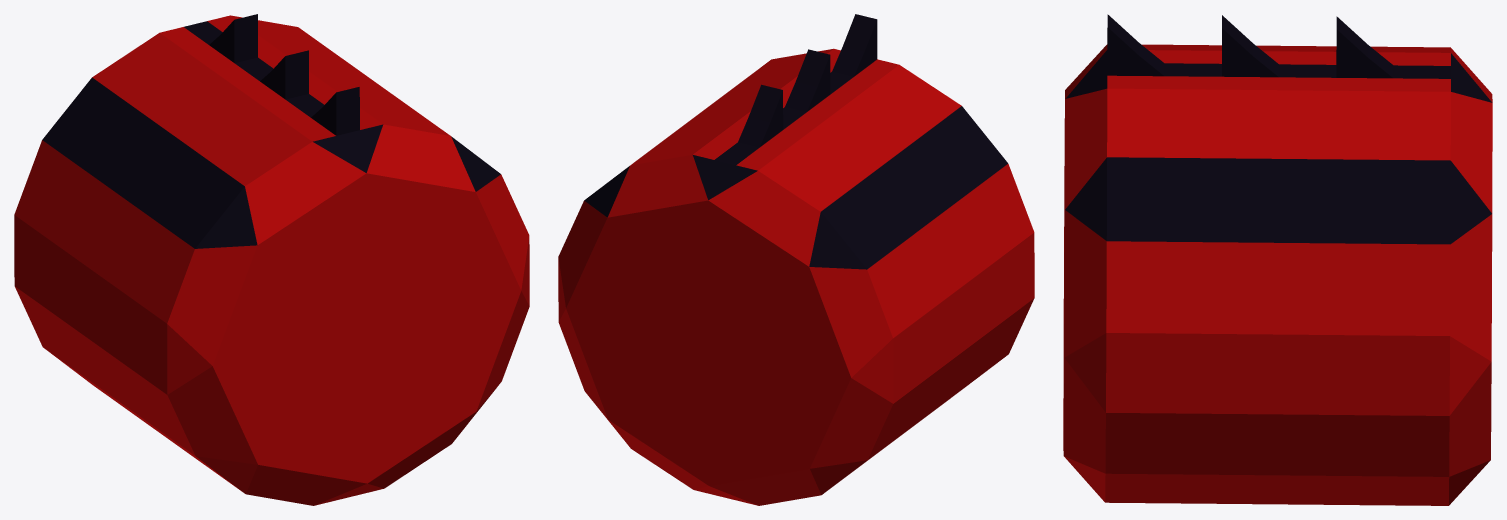
File: SH-UTS.fbx
3 renders of one model, left to right at view 1: azimuth 30°, elevation 25°; view 2: azimuth 150°, elevation 25°; view 3: azimuth 270°, elevation 25°, orthographic. The views are drawn at different scales.
Visible parts, largest first — view 1: Cylinder.002; view 2: Cylinder.002; view 3: Cylinder.002.
Part boxes in pixels (left/top/right/bottom): Cylinder.002: left=14, top=14, right=529, bottom=505; Cylinder.002: left=558, top=14, right=1034, bottom=505; Cylinder.002: left=1063, top=14, right=1492, bottom=505.
Size of the model in its own units: 1.58 by 1.47 by 1.34.
